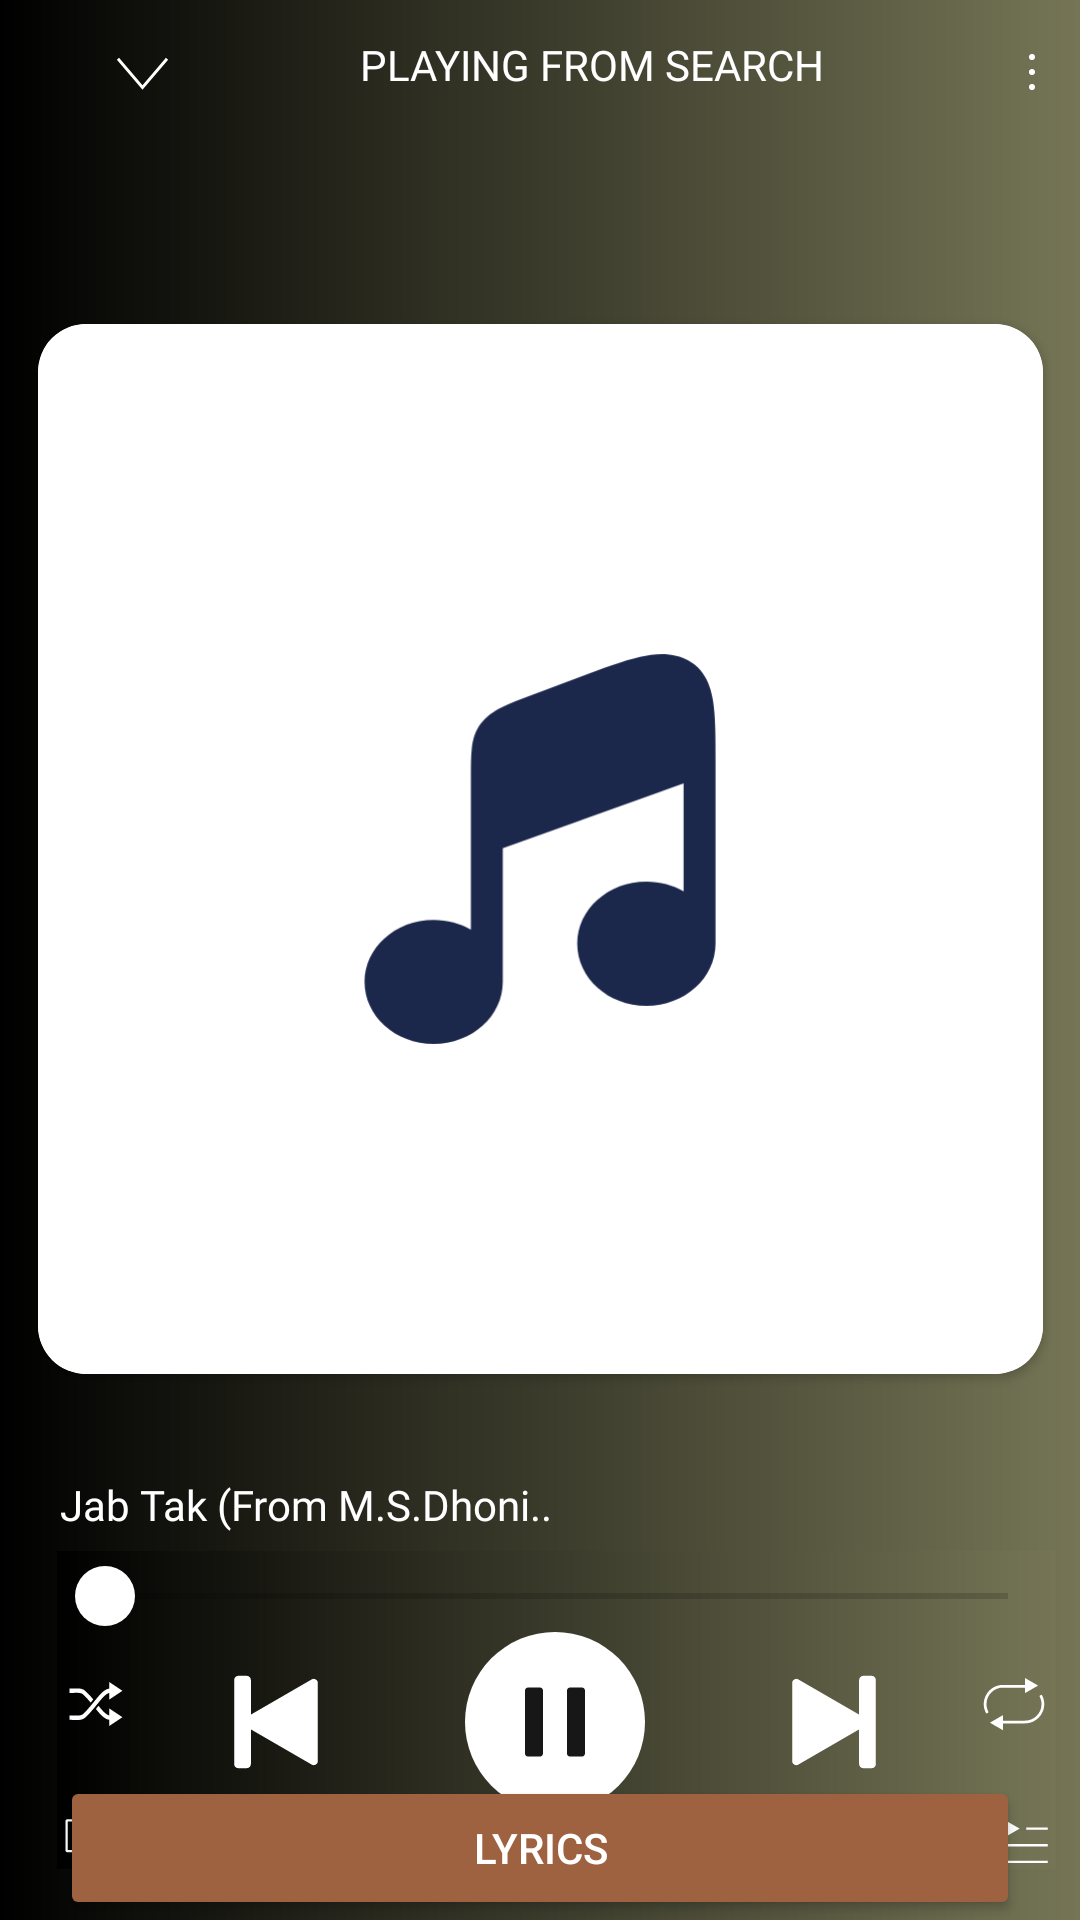

Named icons in this screenshot (1080x1920) and their bounding boxes, {"x1": x1, "y1": y1, "x2": x2, "y2": y2}:
arrow: {"x1": 117, "y1": 58, "x2": 168, "y2": 90}
left: {"x1": 234, "y1": 1675, "x2": 318, "y2": 1769}
more vertical: {"x1": 1029, "y1": 54, "x2": 1035, "y2": 90}
pause: {"x1": 525, "y1": 1687, "x2": 585, "y2": 1757}
queue: {"x1": 999, "y1": 1812, "x2": 1048, "y2": 1869}
repeat: {"x1": 983, "y1": 1678, "x2": 1045, "y2": 1730}
right: {"x1": 792, "y1": 1675, "x2": 876, "y2": 1769}
shuffle: {"x1": 69, "y1": 1682, "x2": 123, "y2": 1726}
